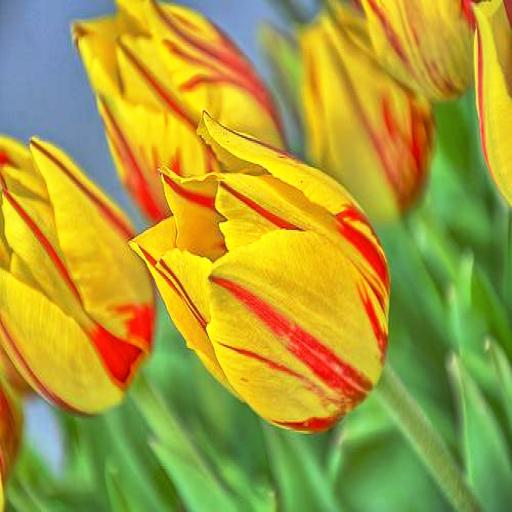tulip: (129, 107, 392, 426)
